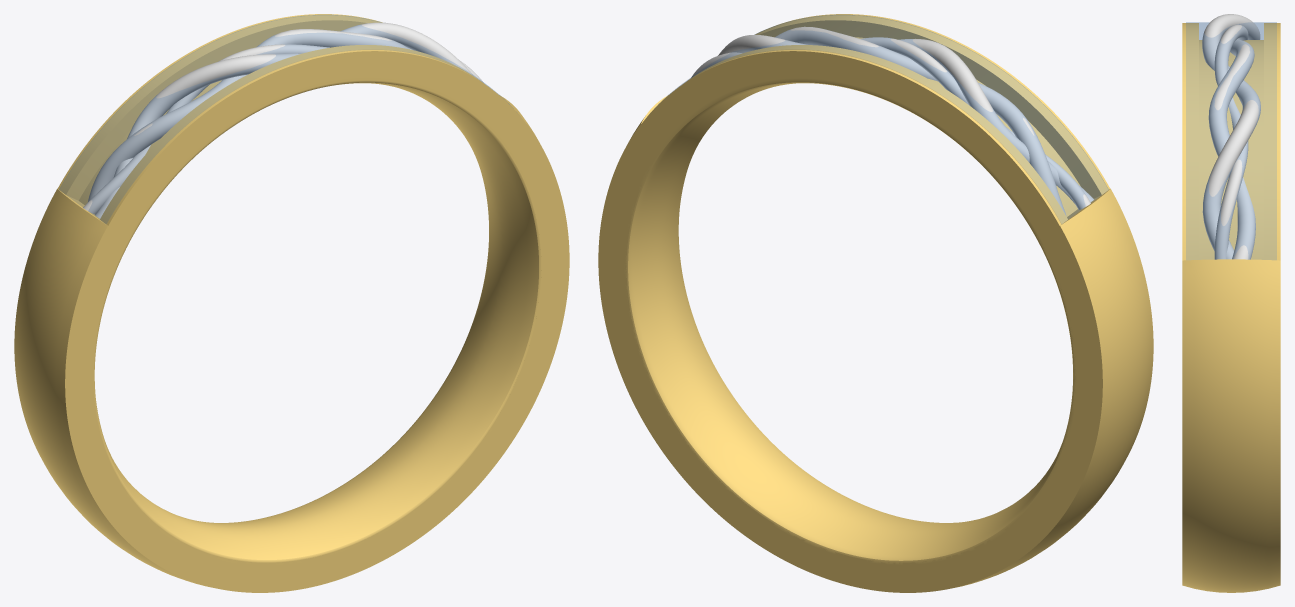
The model's file is RobertV1wb.glb.
The picture shows the model from 3 angles, left to right: view 1: azimuth 30°, elevation 25°; view 2: azimuth 150°, elevation 25°; view 3: azimuth 270°, elevation 25°; orthographic projection. The views are drawn at different scales.
Visible parts, largest first — view 1: Robert YG for 3d model, Robert top blue color it for 3d model, Robert PT for 3d model; view 2: Robert YG for 3d model, Robert top blue color it for 3d model, Robert PT for 3d model; view 3: Robert YG for 3d model, Robert top blue color it for 3d model, Robert PT for 3d model.
Part boxes in pixels (x1,y1,x2,y2): Robert YG for 3d model: [14, 14, 569, 592]; Robert top blue color it for 3d model: [59, 15, 509, 223]; Robert PT for 3d model: [83, 22, 483, 218]; Robert YG for 3d model: [598, 14, 1153, 592]; Robert top blue color it for 3d model: [658, 15, 1108, 223]; Robert PT for 3d model: [691, 26, 1093, 215]; Robert YG for 3d model: [1182, 23, 1280, 592]; Robert top blue color it for 3d model: [1186, 22, 1276, 259]; Robert PT for 3d model: [1202, 14, 1260, 259].
Bounding box in the file's own units: 25.34 × 25.1 × 4.3.
